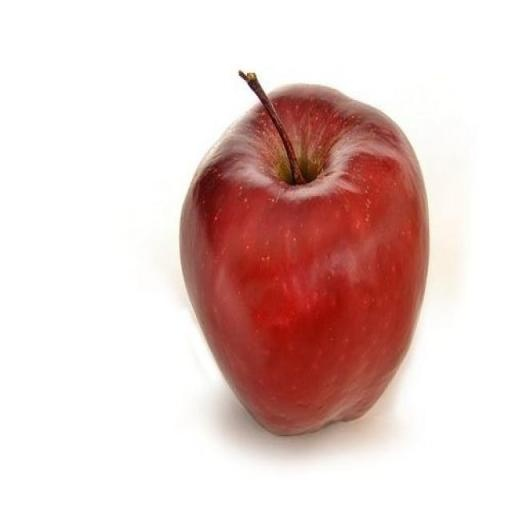fruit: (180, 73, 428, 434)
